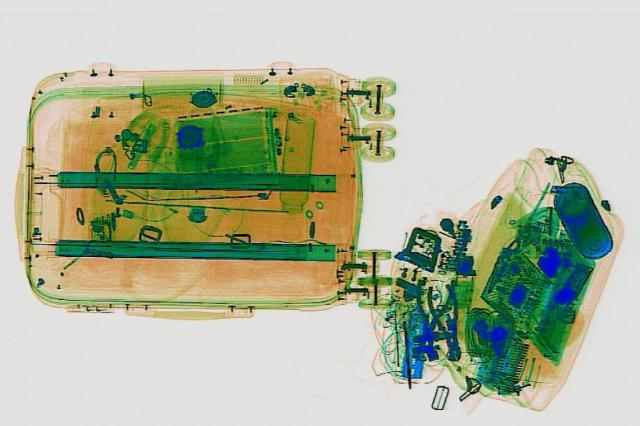Pliers: (420, 281, 476, 360), (404, 276, 456, 343)
